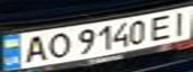0: (127, 17, 151, 45)
1: (93, 22, 115, 52)
4: (112, 20, 133, 48)
9: (72, 26, 96, 55)
A: (15, 33, 51, 64)
E: (145, 11, 178, 40)
I: (166, 8, 193, 36)
O: (42, 30, 72, 60)
